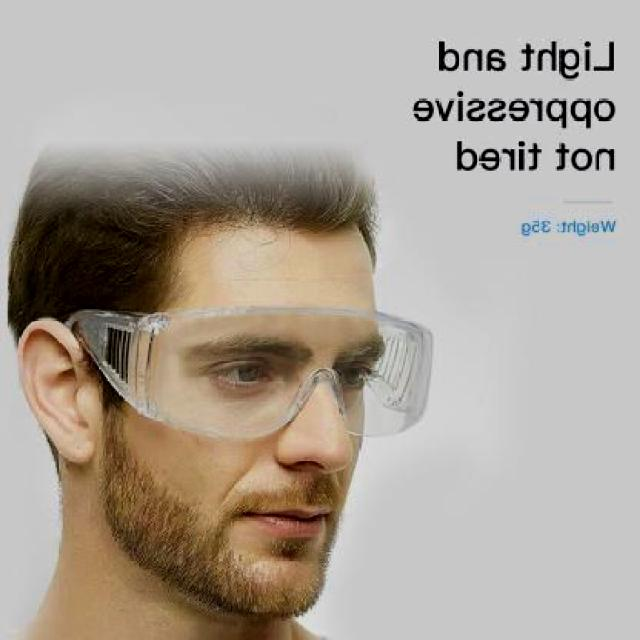face_nomask: (186, 337, 406, 548)
glasses: (60, 304, 437, 441)
